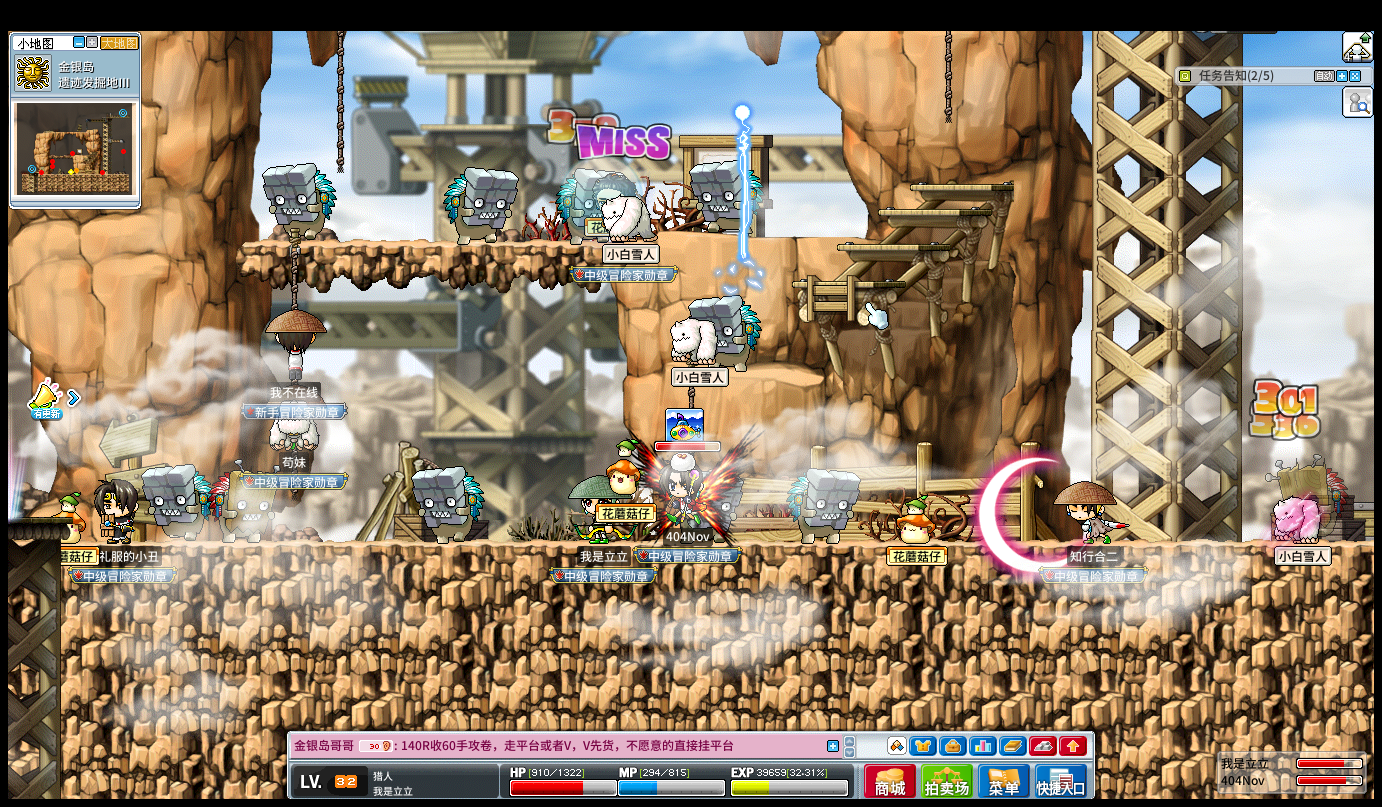floor: (61, 539, 1373, 553), (237, 237, 606, 252), (680, 367, 824, 389), (653, 231, 868, 243), (836, 242, 953, 253), (790, 280, 907, 290), (878, 208, 994, 218), (909, 183, 1012, 192), (8, 516, 75, 524)
monster: (443, 167, 520, 245), (262, 164, 338, 242), (211, 459, 280, 543), (411, 466, 485, 543), (786, 470, 861, 544), (690, 162, 765, 235), (142, 465, 210, 541), (1265, 454, 1349, 498), (715, 296, 762, 373), (556, 169, 592, 245)
rope: (335, 31, 346, 174), (944, 31, 953, 124)
